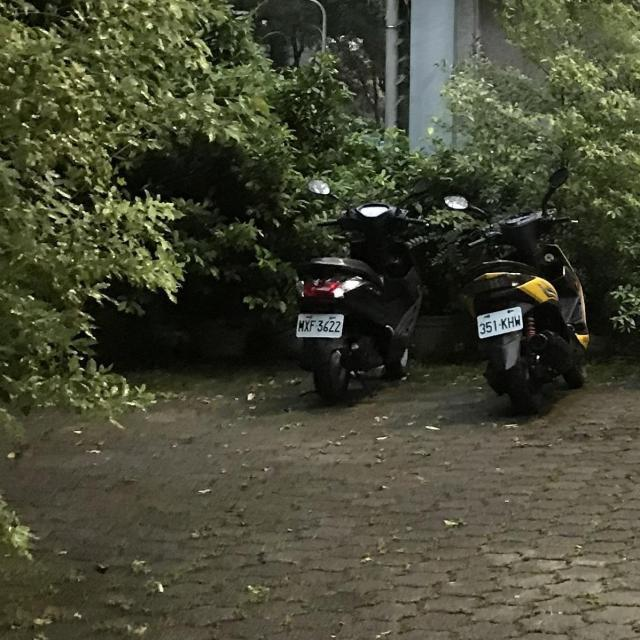W: (471, 304, 528, 340), (291, 308, 347, 341)
